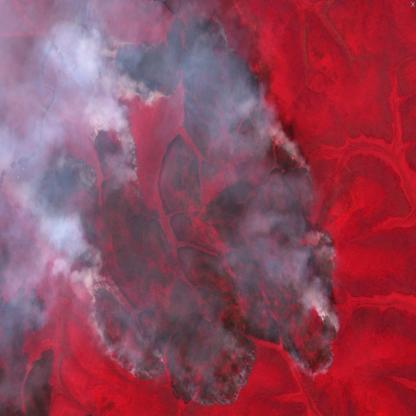fire: (20, 0, 346, 416)
